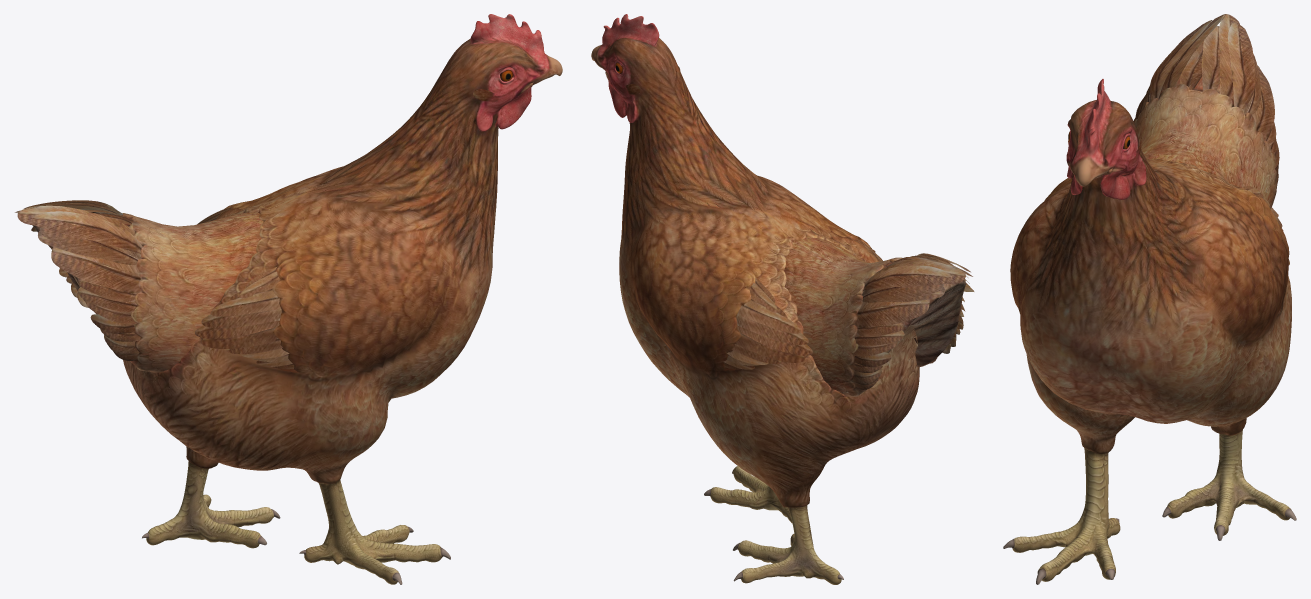
Rendered from chicken.glb.
The picture shows the model from 3 angles, left to right: view 1: azimuth 30°, elevation 25°; view 2: azimuth 150°, elevation 25°; view 3: azimuth 270°, elevation 25°; orthographic projection. The views are drawn at different scales.
Parts seen in each view (by area): view 1: node_id53_0; view 2: node_id53_0; view 3: node_id53_0.
Boxes of the visible parts, x1,y1,x2,y2 form: node_id53_0: [15, 14, 562, 584]; node_id53_0: [591, 14, 974, 584]; node_id53_0: [1003, 14, 1296, 584].
Size of the model in its own units: 1.05 by 1.07 by 0.5191.
1 material, 1 textured.
